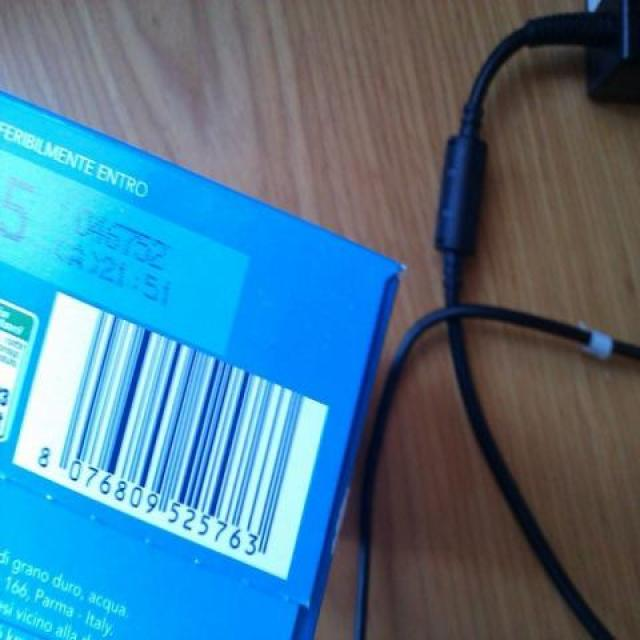Barcode: (13, 289, 330, 580)
